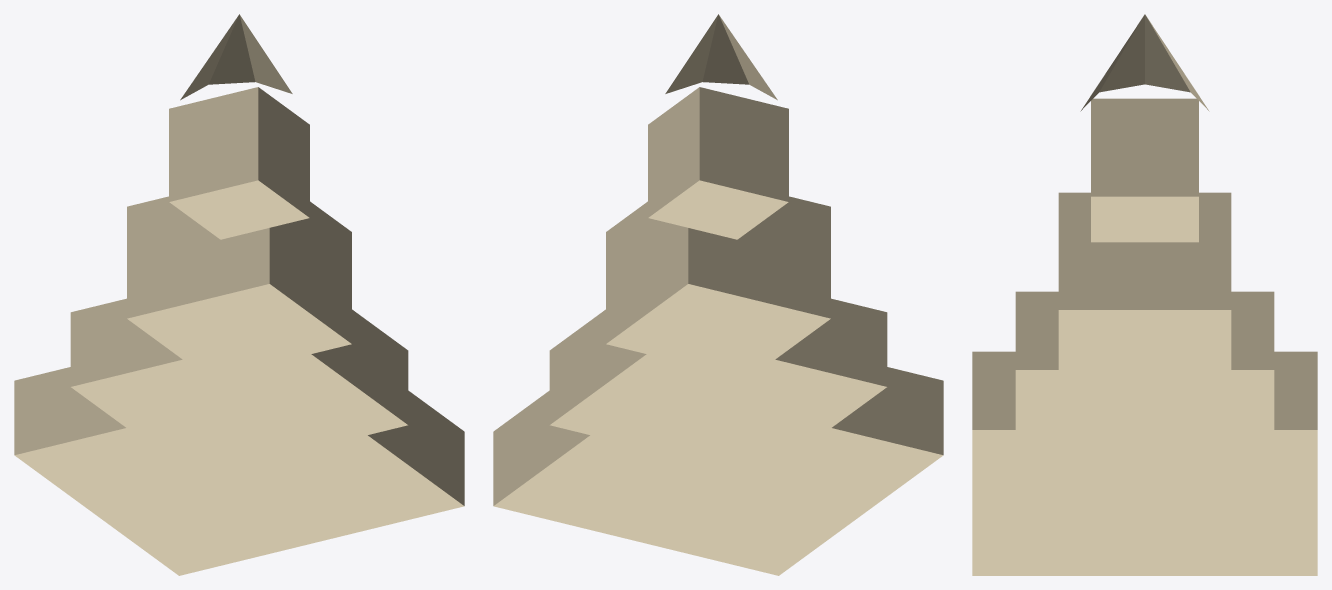
File: hindu-candi.glb
3 views of the same model, side by side, from view 1: azimuth 30°, elevation 25°; view 2: azimuth 150°, elevation 25°; view 3: azimuth 270°, elevation 25° (orthographic). The views are drawn at different scales.
Parts seen in each view (by area): view 1: hindu-candi.glb; view 2: hindu-candi.glb; view 3: hindu-candi.glb.
Boxes of the visible parts, left/top/right/bottom form: hindu-candi.glb: left=14, top=14, right=464, bottom=575; hindu-candi.glb: left=493, top=14, right=943, bottom=575; hindu-candi.glb: left=972, top=14, right=1317, bottom=575.
Bounding box in the file's own units: 1.6 × 2.5 × 1.6.
